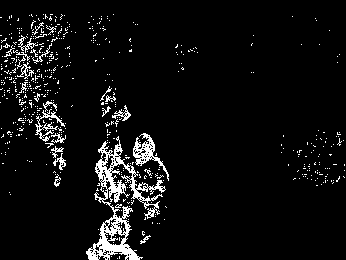person: (131, 130, 169, 247), (93, 136, 134, 222), (35, 101, 68, 188), (98, 83, 131, 140)
